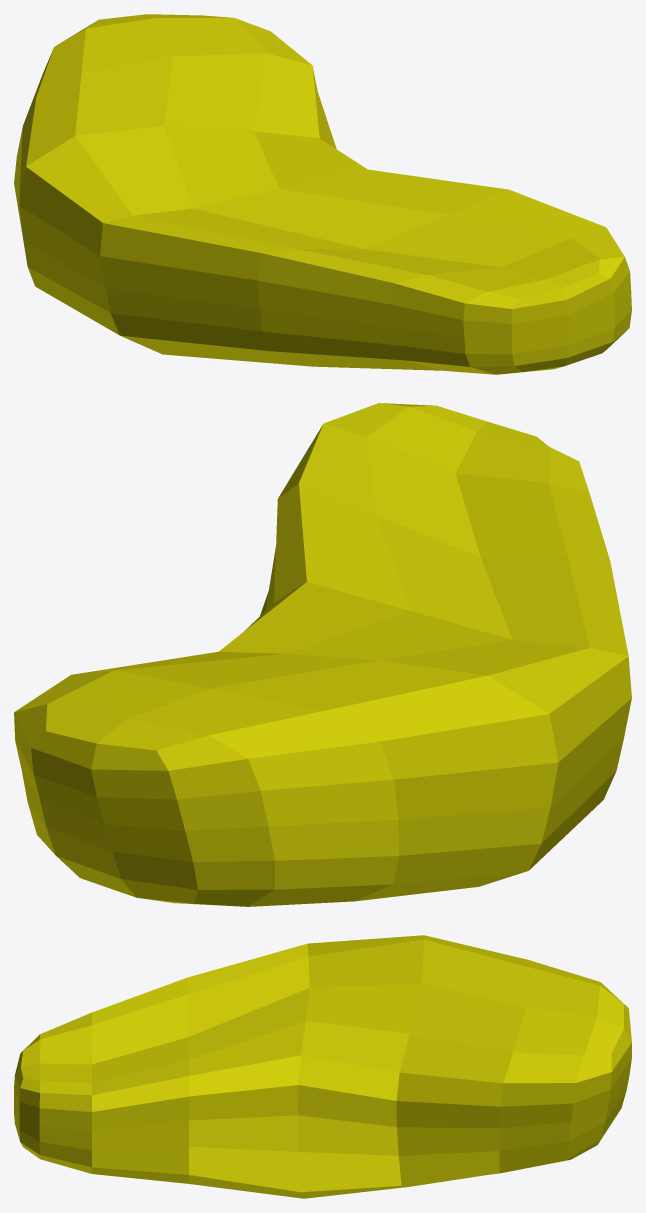
Rendered from piedras_puzzle_amarilla.fbx.
3 renders of one model, top to bottom at view 1: azimuth 30°, elevation 25°; view 2: azimuth 150°, elevation 25°; view 3: azimuth 270°, elevation 25°, orthographic. The views are drawn at different scales.
Parts seen in each view (by area): view 1: piedra2.003; view 2: piedra2.003; view 3: piedra2.003.
Boxes of the visible parts, x1=… form: piedra2.003: x1=14, y1=14, x2=631, y2=374; piedra2.003: x1=14, y1=403, x2=631, y2=906; piedra2.003: x1=14, y1=935, x2=631, y2=1198.
Size of the model in its own units: 36.39 by 17.05 by 59.02.
